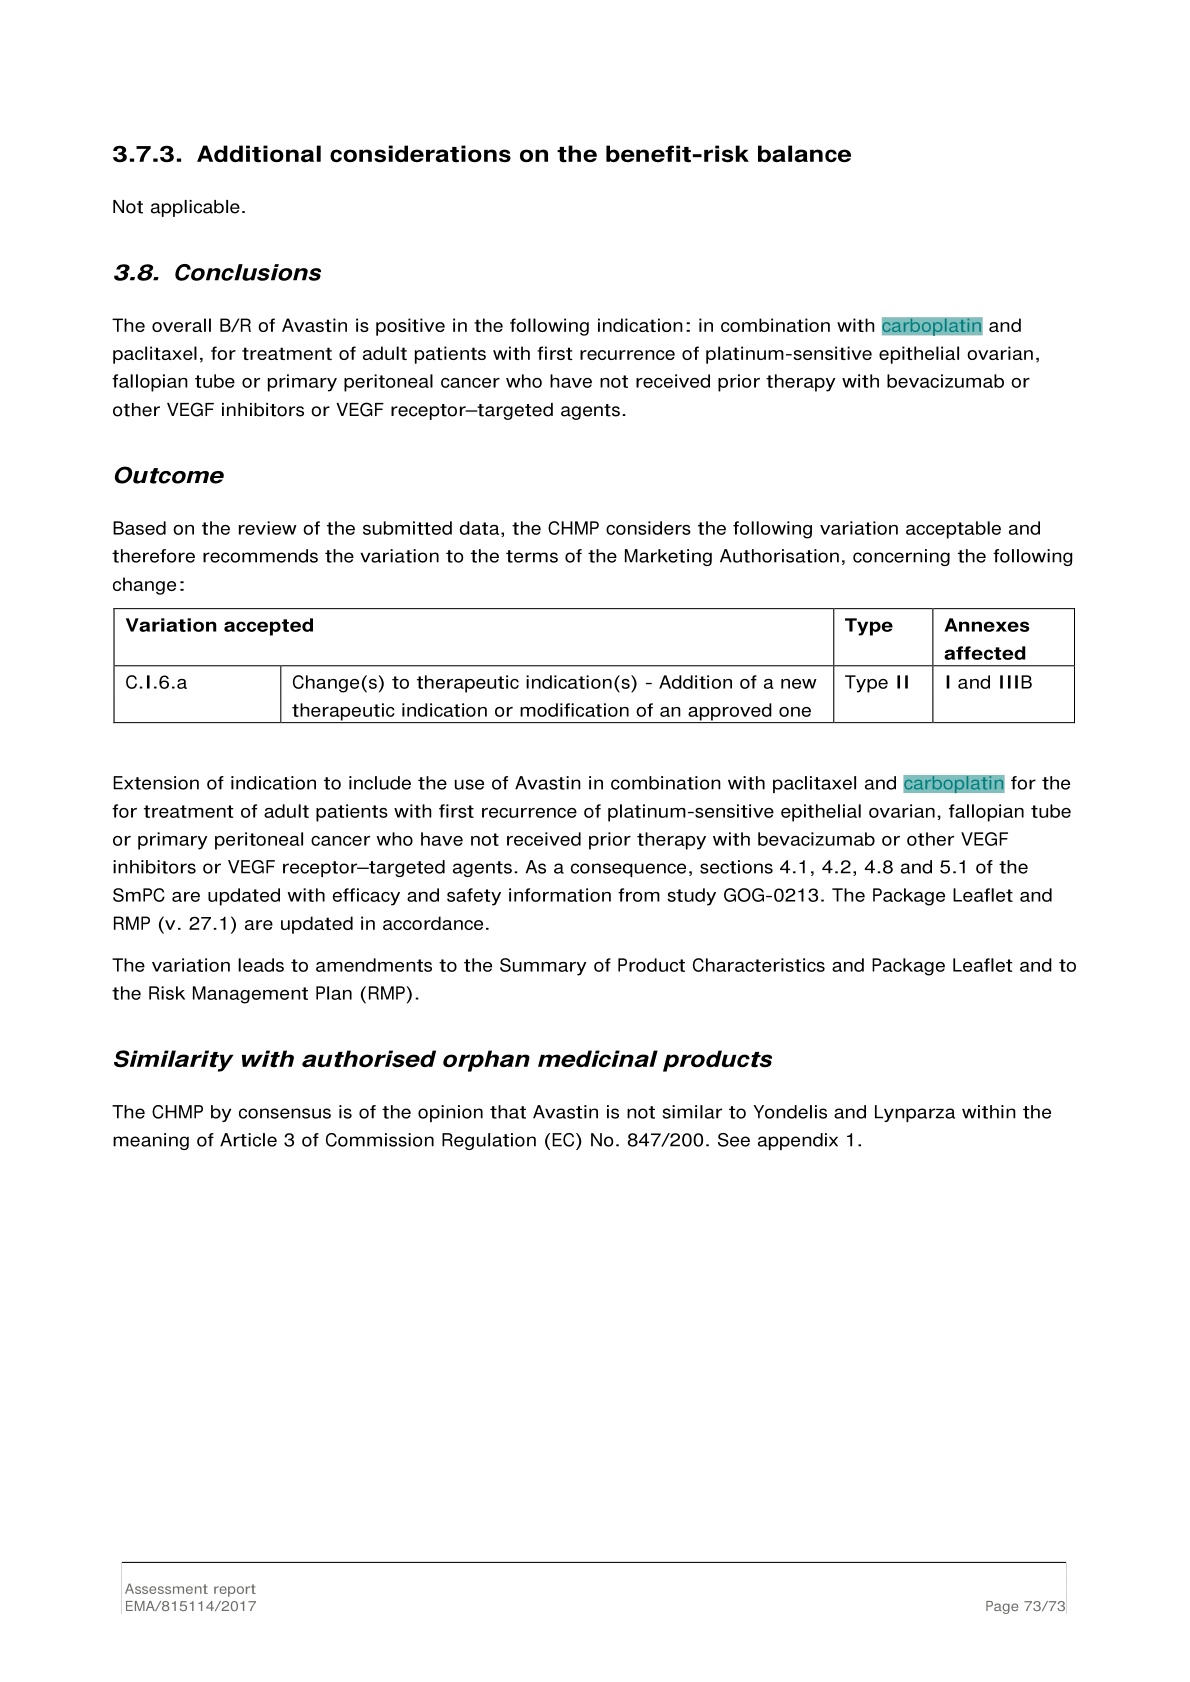merged_cells: (112, 607, 1075, 724)
